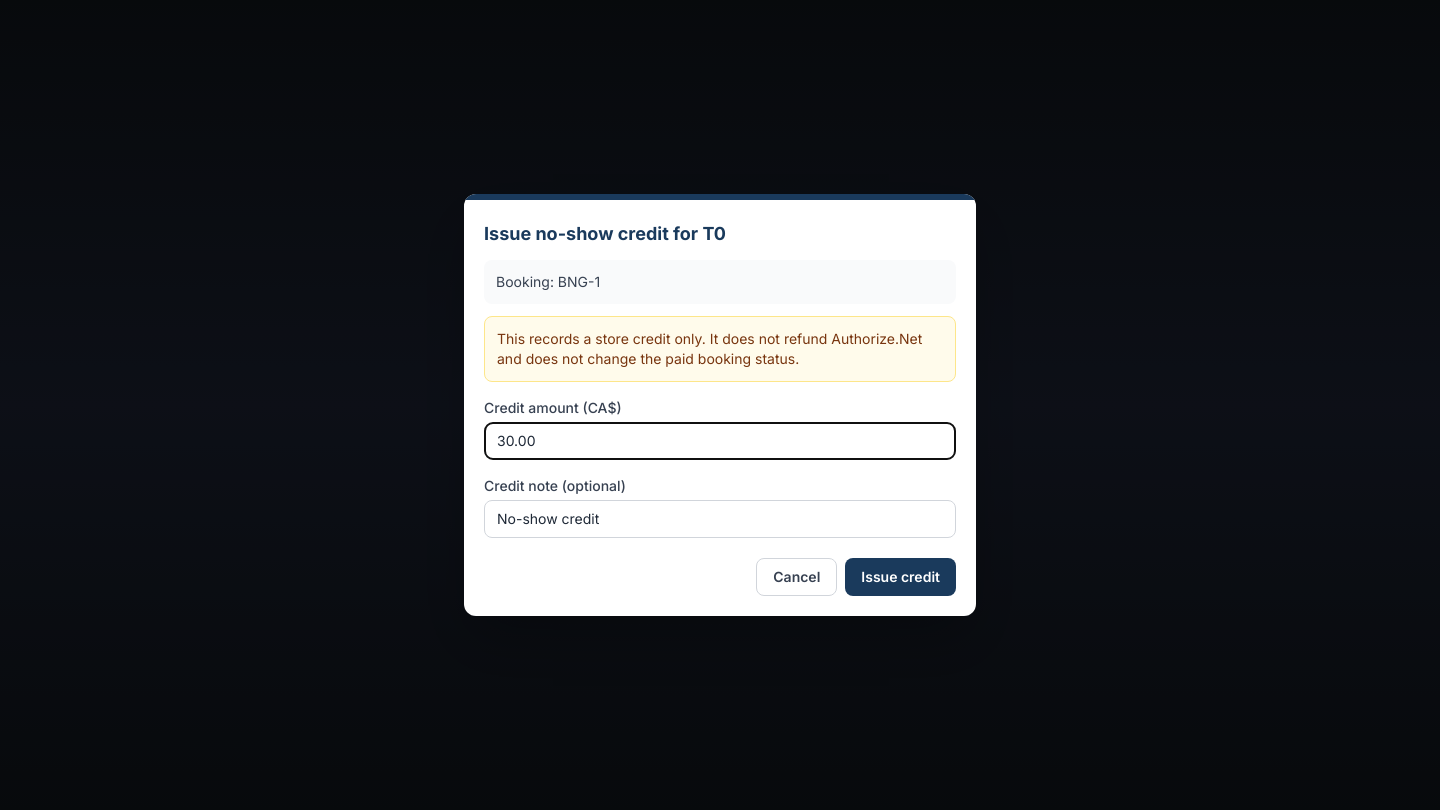
Test: useBookingActions › issues a no-show credit in cents from the dollar amount typed
Replace the text in the field labelled "Credit amount (CA$)" with "12.5": (720, 441) [484,422,956,460]
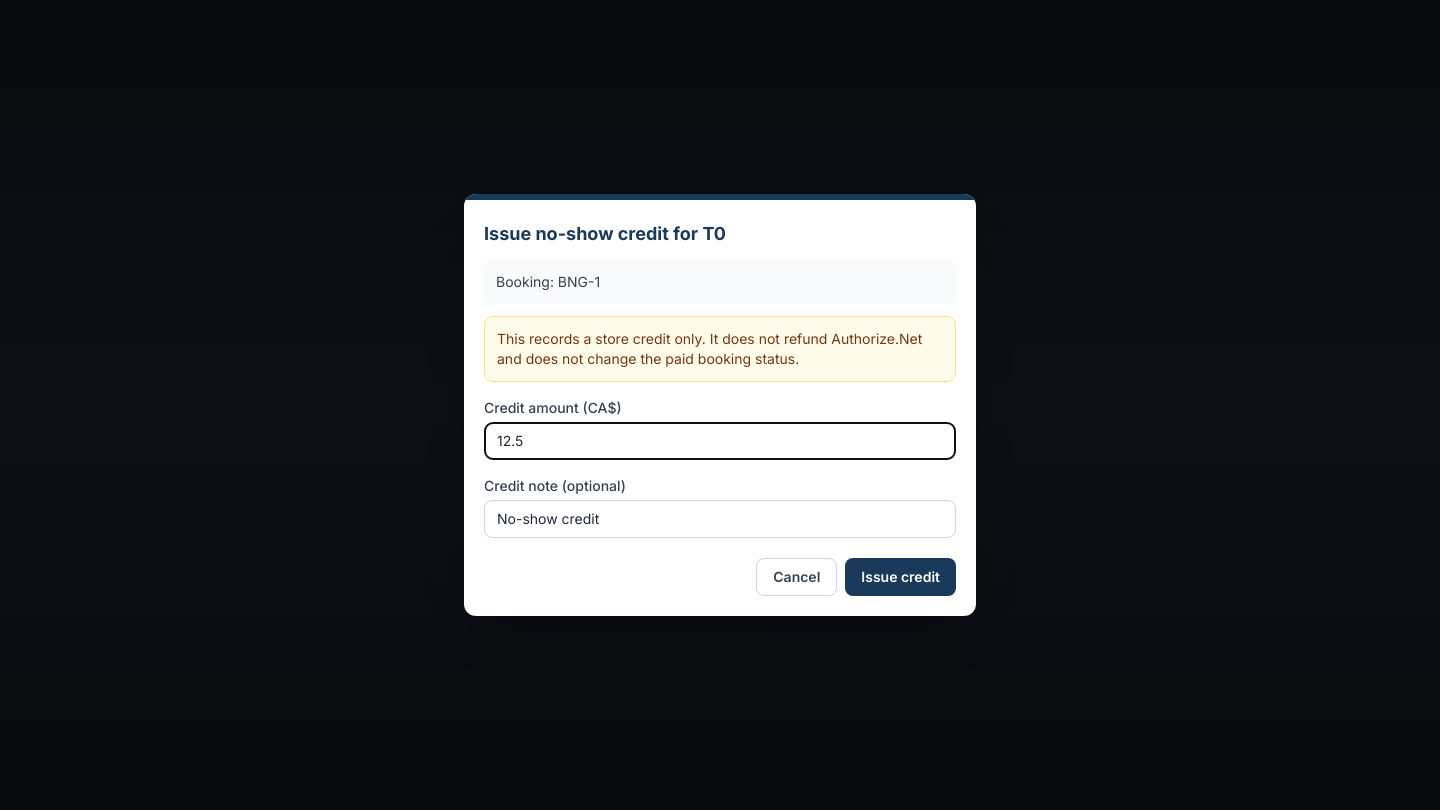
Click the button "Issue credit": (901, 577) [845,558,956,596]
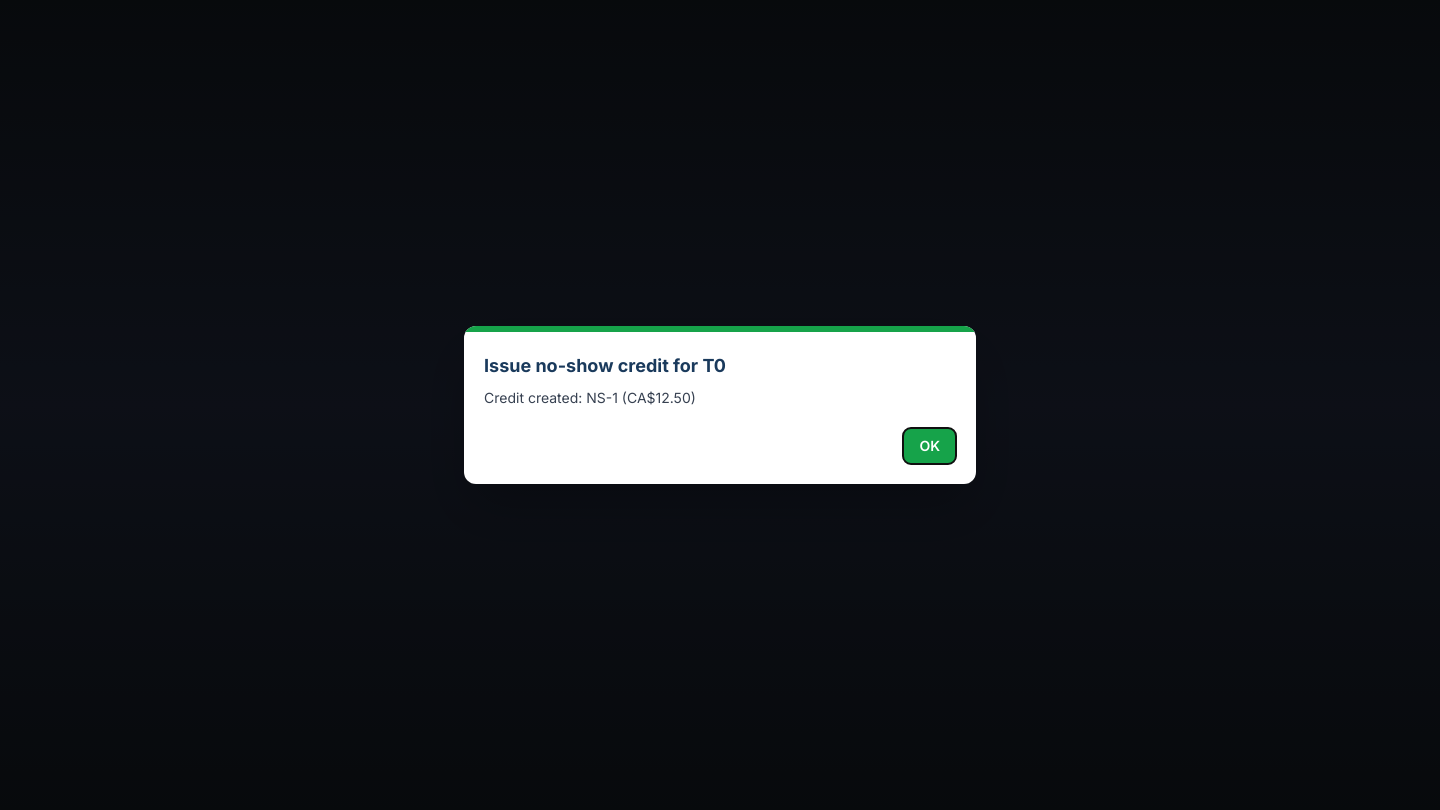
Expected: the text "Credit created: NS-1 (CA$12.50)" is shown, [484,389,696,406]
